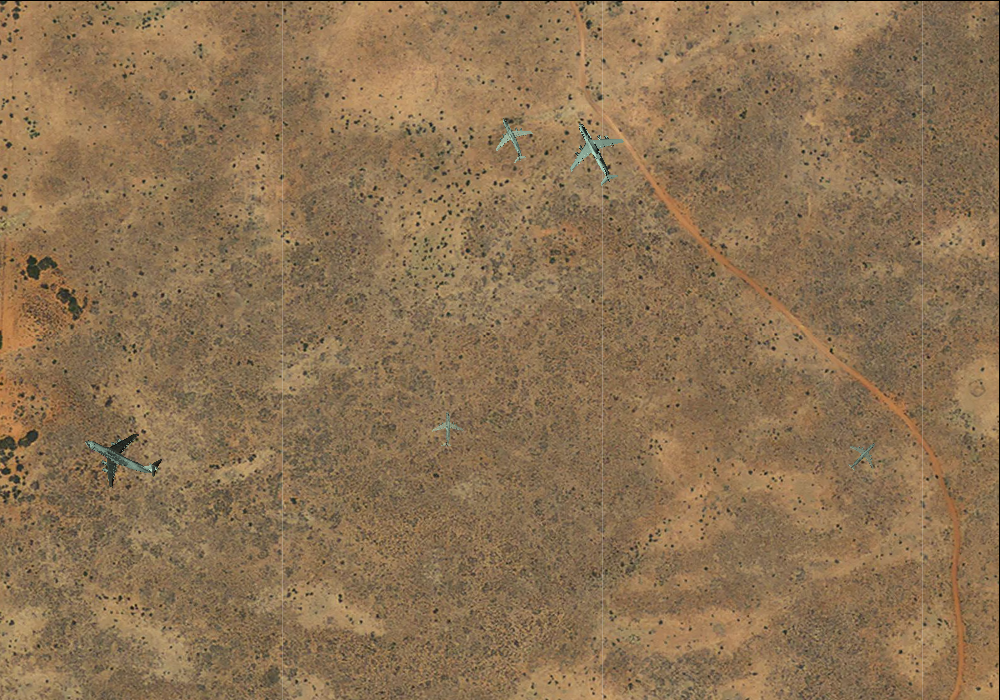plane: (70, 406, 173, 505), (551, 107, 638, 197), (482, 109, 542, 169), (839, 432, 886, 480), (429, 410, 464, 447)
